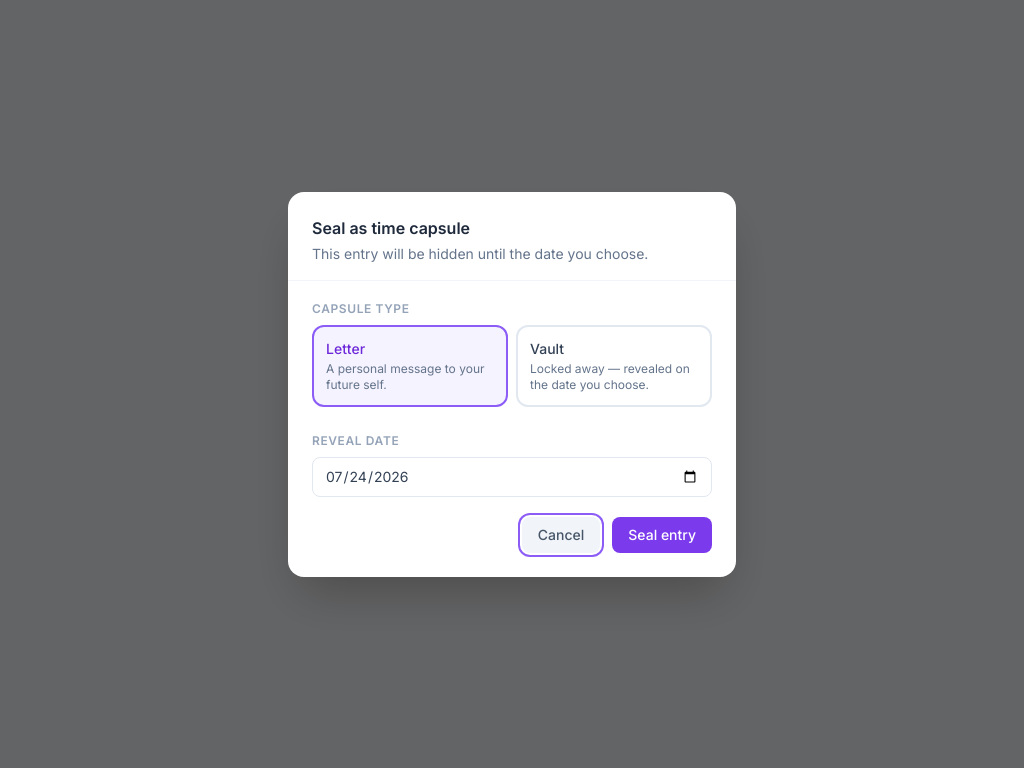
Test case: SealEntryModal › shows error when sealEntry rejects
The width and height of the screenshot is (1024, 768).
Click the button "Seal entry" at (662, 534), box 612,516 -> 712,552
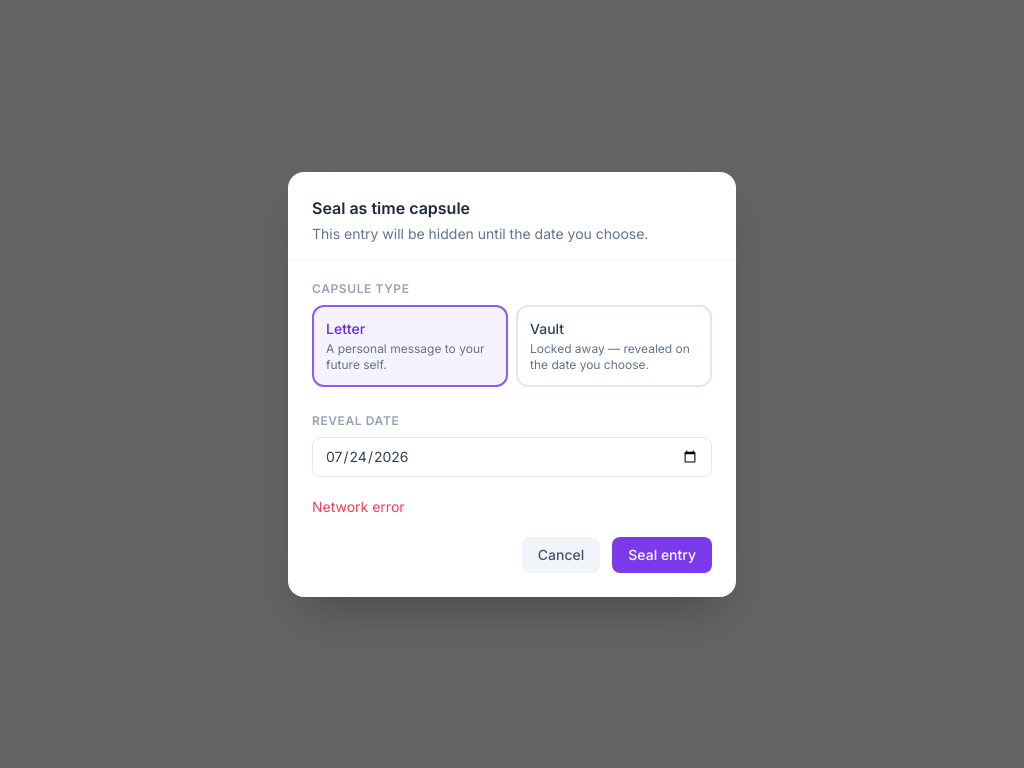
Expected: the text "Network error" is shown, 312,498 -> 405,514
